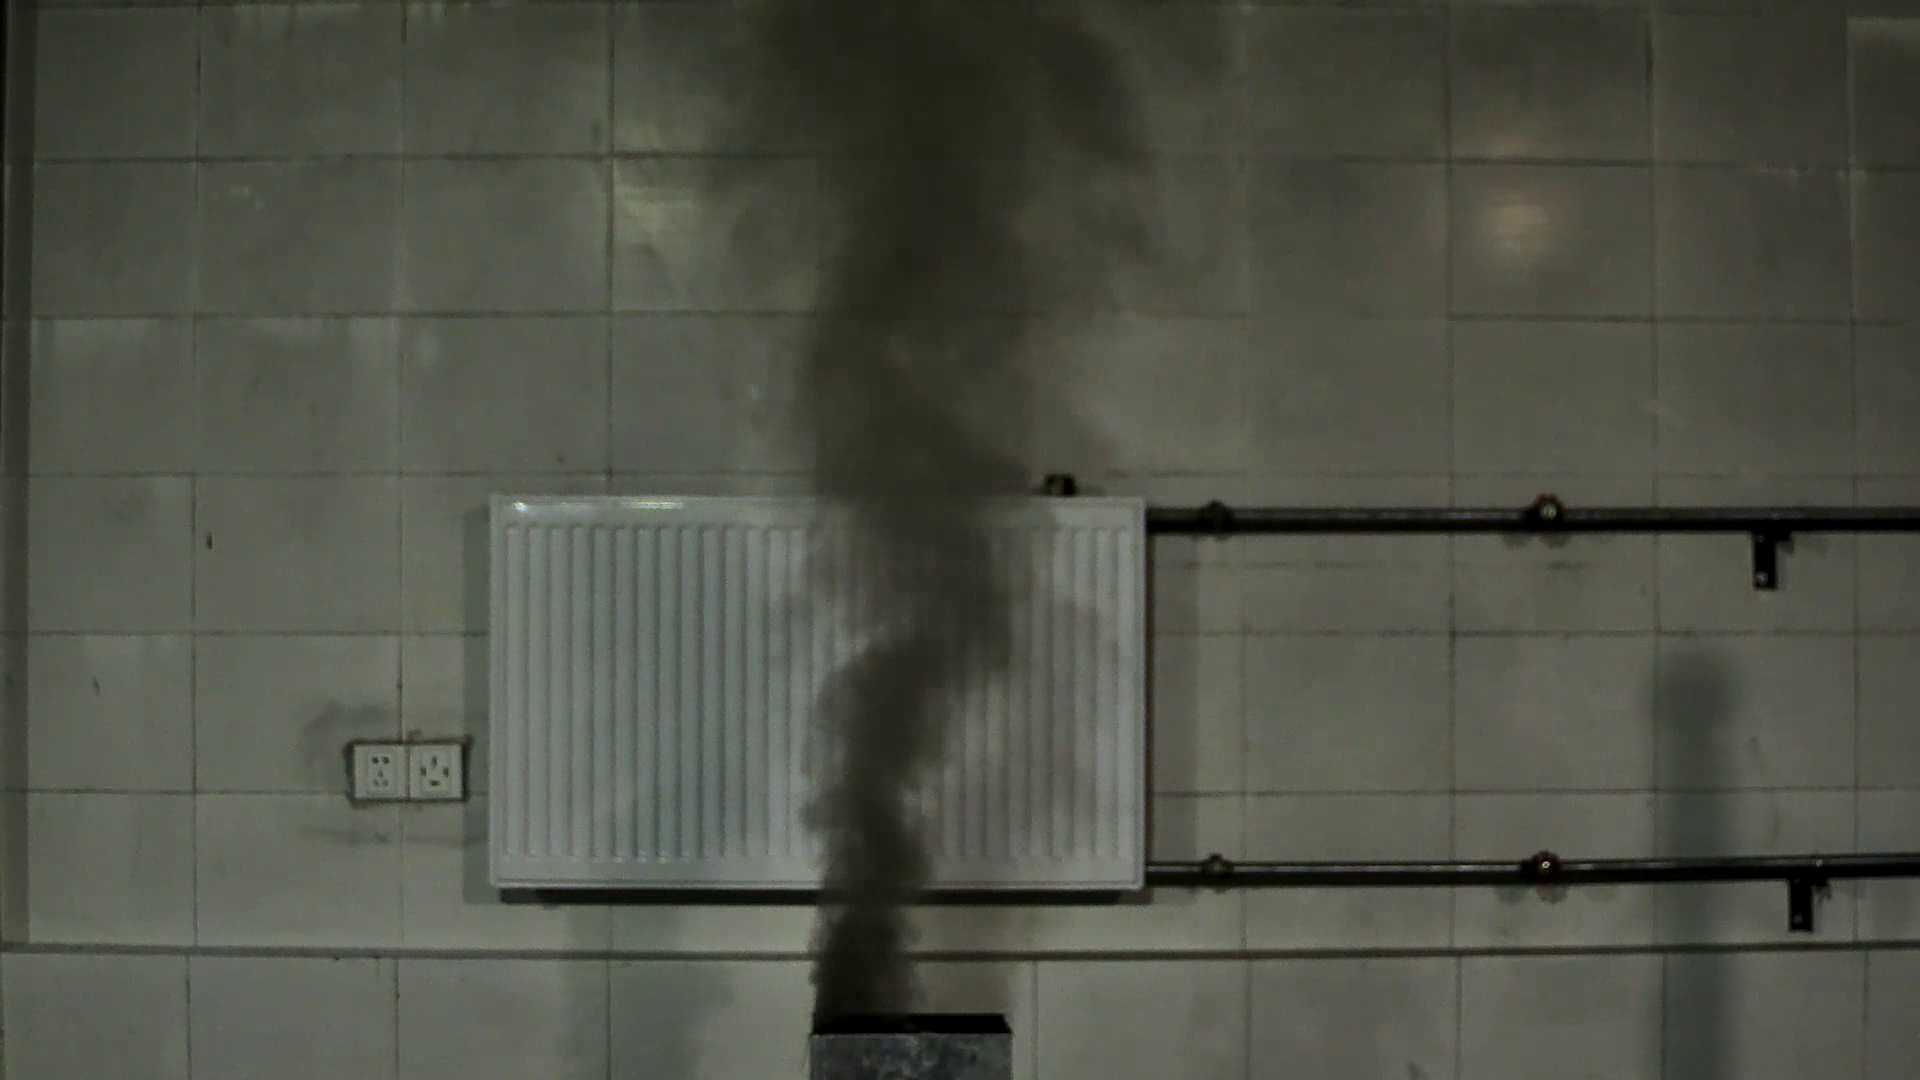smoke: (740, 196, 1054, 1009)
